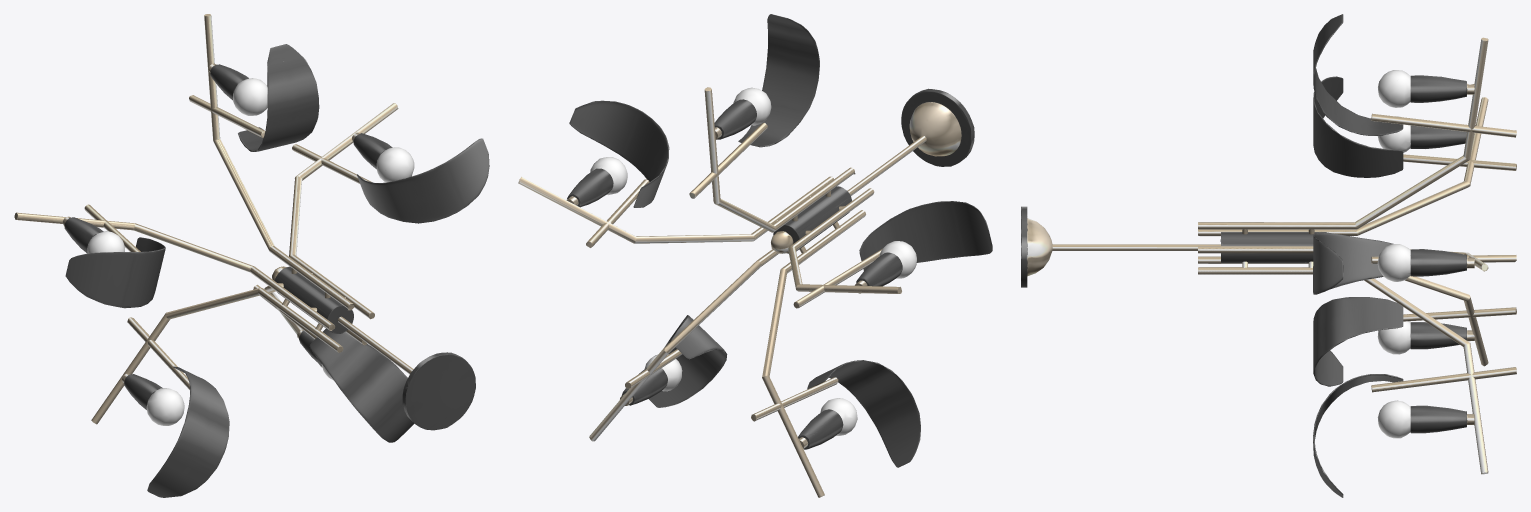
The model's file is raw_model.glb.
3 views of the same model, side by side, from view 1: azimuth 30°, elevation 25°; view 2: azimuth 150°, elevation 25°; view 3: azimuth 270°, elevation 25° (orthographic).
Visible parts, largest first — view 1: raw_model.035; view 2: raw_model.035; view 3: raw_model.035.
Part boxes in pixels (left/top/right/bottom): raw_model.035: left=14, top=14, right=489, bottom=497; raw_model.035: left=518, top=14, right=992, bottom=497; raw_model.035: left=1021, top=14, right=1516, bottom=497.
Bounding box in the file's own units: 0.7146 × 0.6827 × 0.7263.
Materials: 1 (1 with a texture image).
